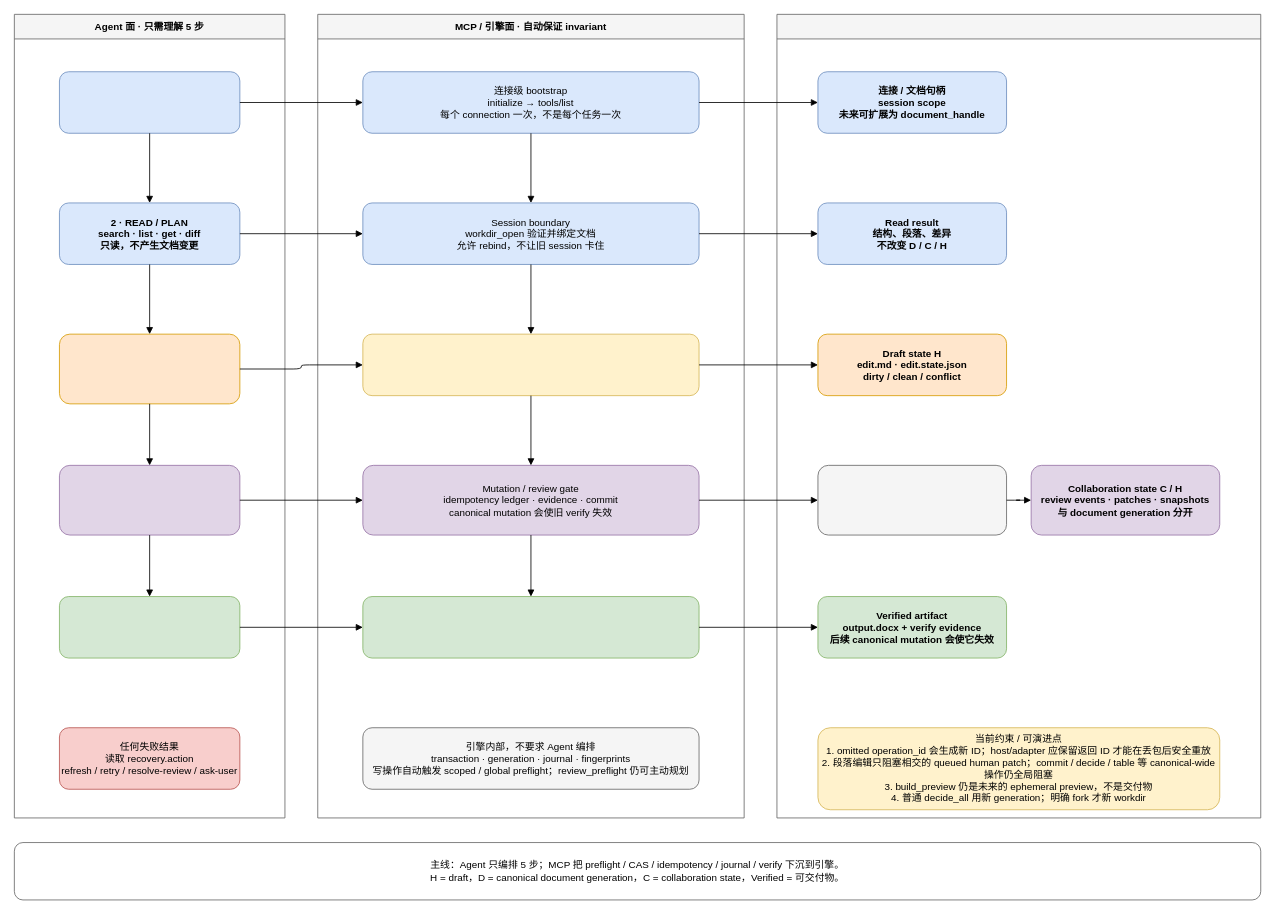
The diagram is 1275 pixels wide and 914 high, and some of its shapes have lost their labels. The shapes that lost their labels are listed below. From the top down, each one's box as (x1, y1, x2, y2) in pixels, then its label:
(59, 71, 240, 133): 1 · OPEN workdir_open 打开或重新绑定文档
(59, 333, 240, 404): 3 · EDIT DRAFT replace / batch / insert / delete 同一批逻辑修改优先 batch_edit
(362, 333, 699, 396): 自动安全 gate preflight · writer lock · CAS Agent 不必手工先调 preflight
(776, 14, 1261, 818): 状态 / 产物面 · D / C / H 分开
(59, 465, 240, 535): 4 · REVIEW / COMMIT diff_preview → review → commit_sync 有问题就回到第 3 步
(817, 465, 1007, 535): Document state D(n+1) canonical identity = generation 不等同于单个 typed.md
(59, 596, 240, 658): 5 · DELIVER build_docx → verify_output 验证后才交付
(362, 596, 699, 658): Delivery gate build 只接受 clean canonical verify 是最后一步；失败返回 structured recovery
